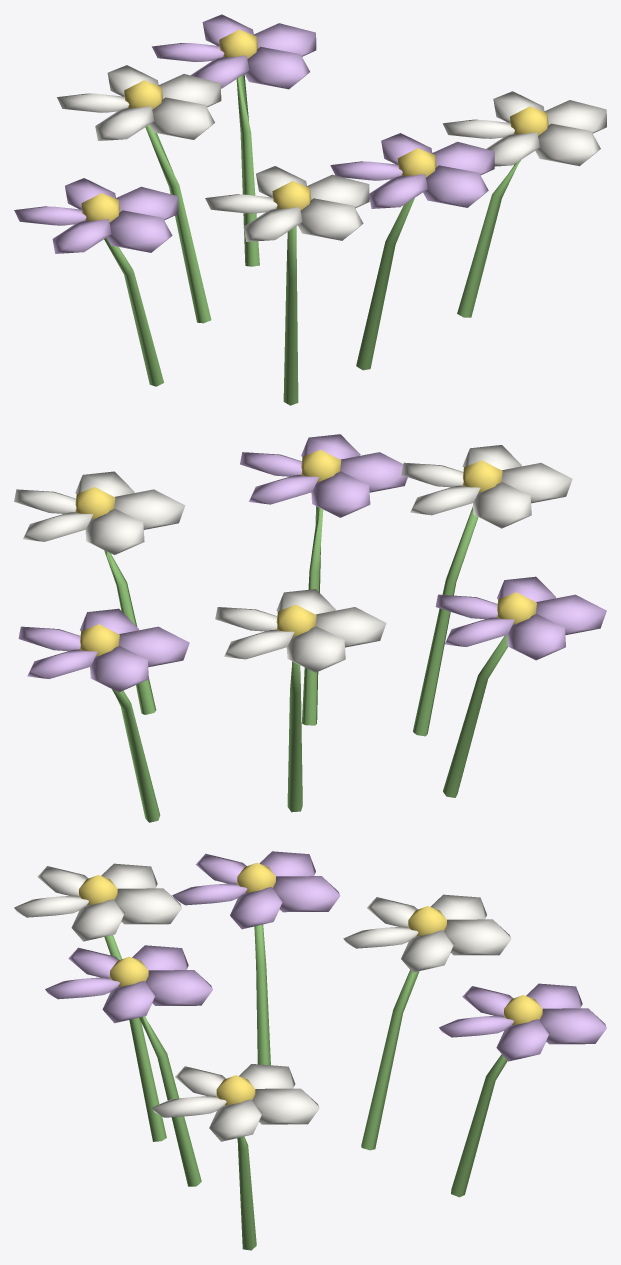
The model's file is wildflower_sprout.glb.
3 views of the same model, one above another, from view 1: azimuth 30°, elevation 25°; view 2: azimuth 150°, elevation 25°; view 3: azimuth 270°, elevation 25° (orthographic). The views are drawn at different scales.
Visible parts, largest first — view 1: SM_Forest_WildflowerSprout; view 2: SM_Forest_WildflowerSprout; view 3: SM_Forest_WildflowerSprout.
Boxes of the visible parts, left/top/right/bottom form: SM_Forest_WildflowerSprout: left=14, top=14, right=606, bottom=405; SM_Forest_WildflowerSprout: left=14, top=434, right=606, bottom=822; SM_Forest_WildflowerSprout: left=14, top=851, right=606, bottom=1250.
Bounding box in the file's own units: 0.7444 × 0.3192 × 0.6812.
